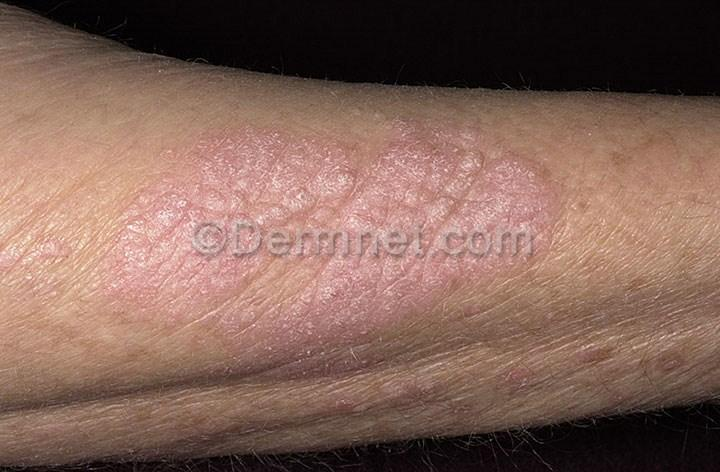Eczema: (184, 100, 576, 214), (195, 264, 468, 378), (89, 200, 194, 310), (463, 255, 560, 317), (544, 210, 601, 262)
